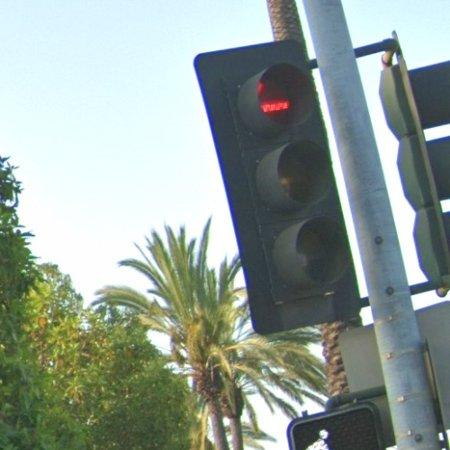traffic lights: (195, 41, 360, 334)
